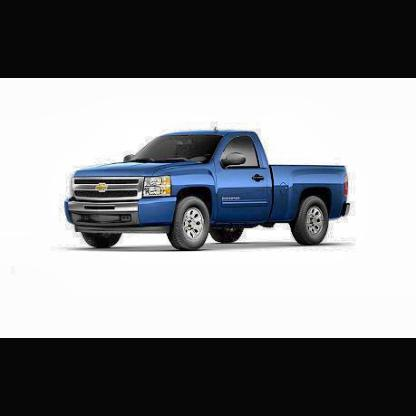Chevrolet Silverado 2500HD Regular Cab 2012: (65, 127, 352, 251)
